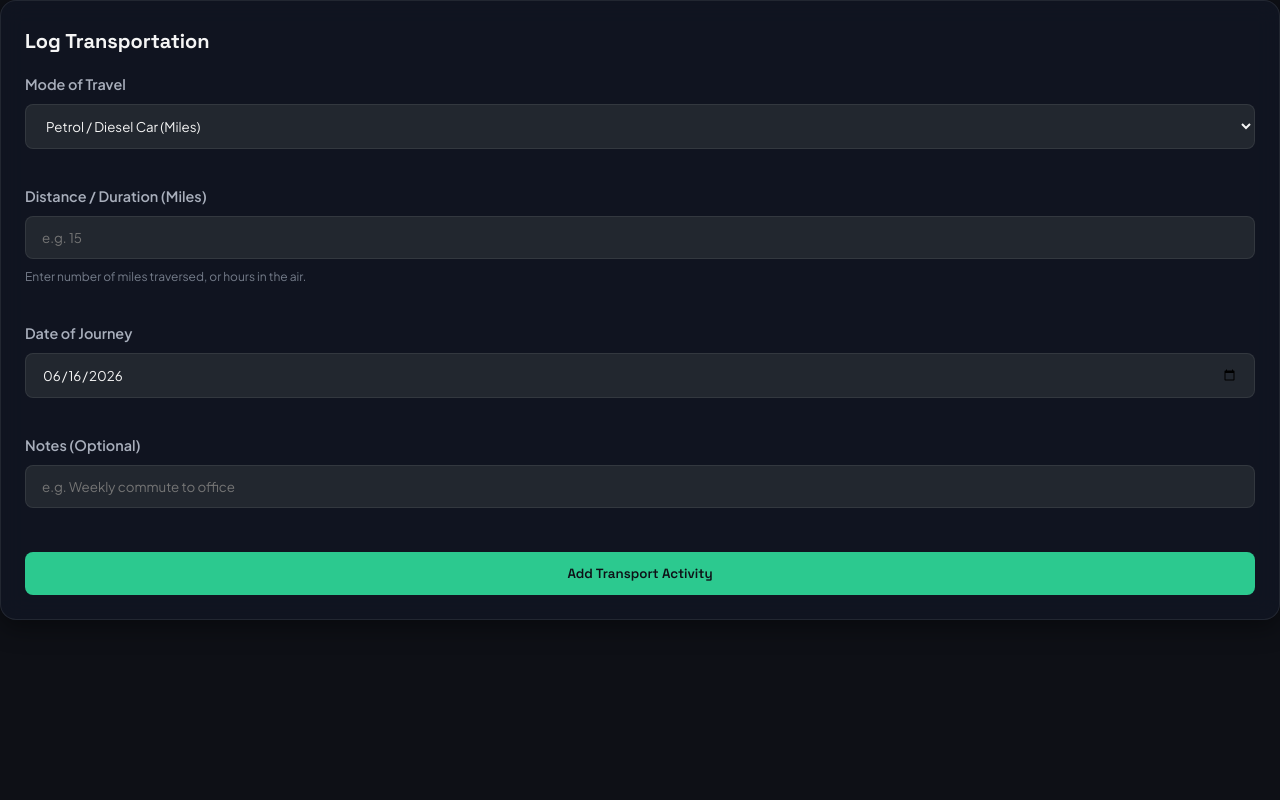
Scenario: TransportForm Component › submits correctly and displays success message
Note: Enter mileage
Type "50" into the number field labelled "Distance / Duration (Miles)" at (640, 238), box [25,216,1255,259]
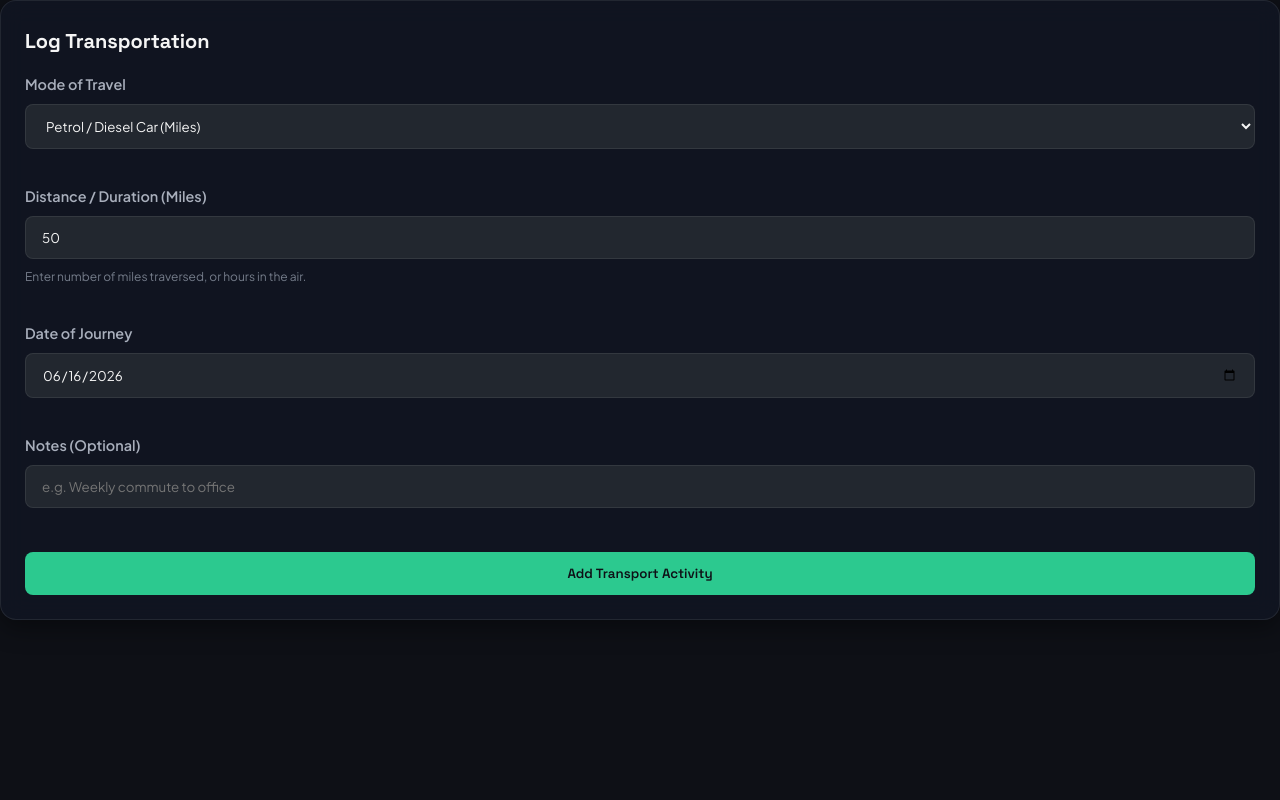
Click the button "Add Transport Activity" at (640, 574), box [25,552,1255,595]
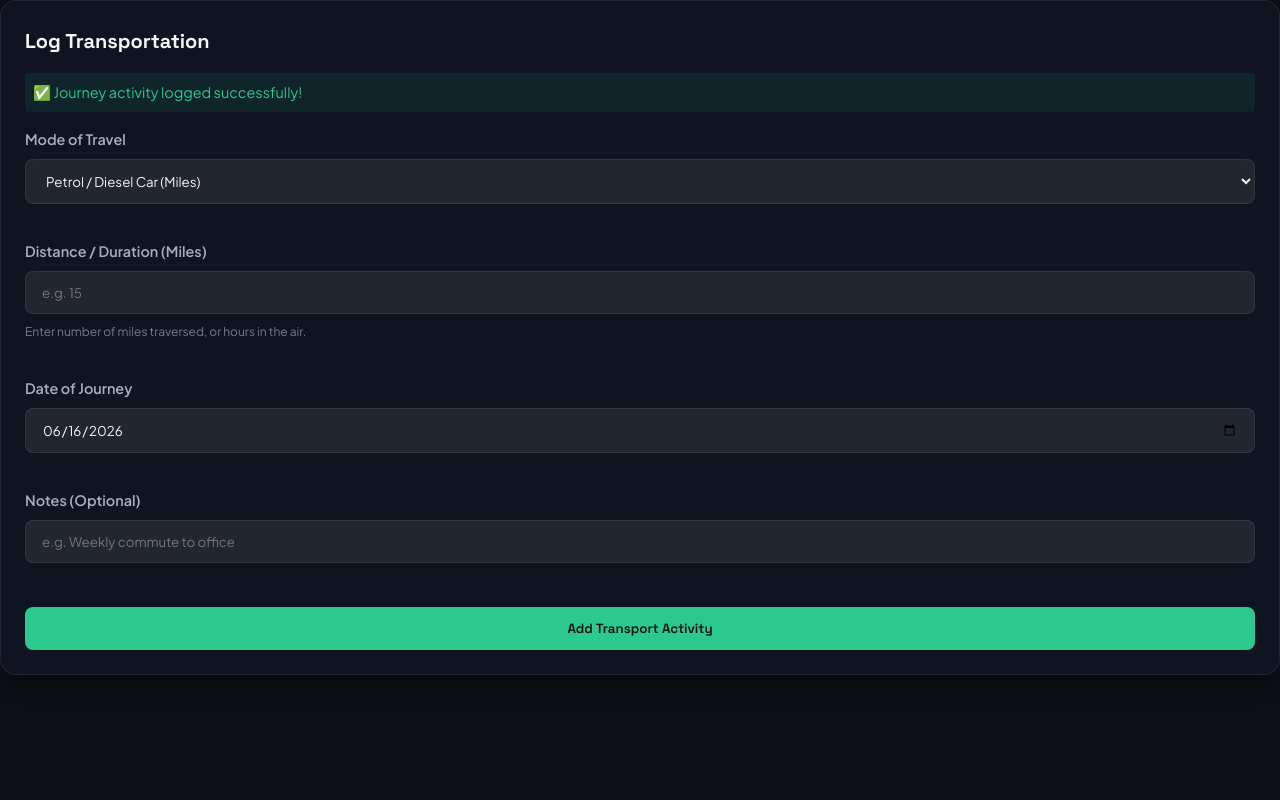
Check: the message shows "activity logged successfully", box [33,83,302,101]
Check: the number field labelled "Distance / Duration (Miles)" is empty, box [25,271,1255,314]
